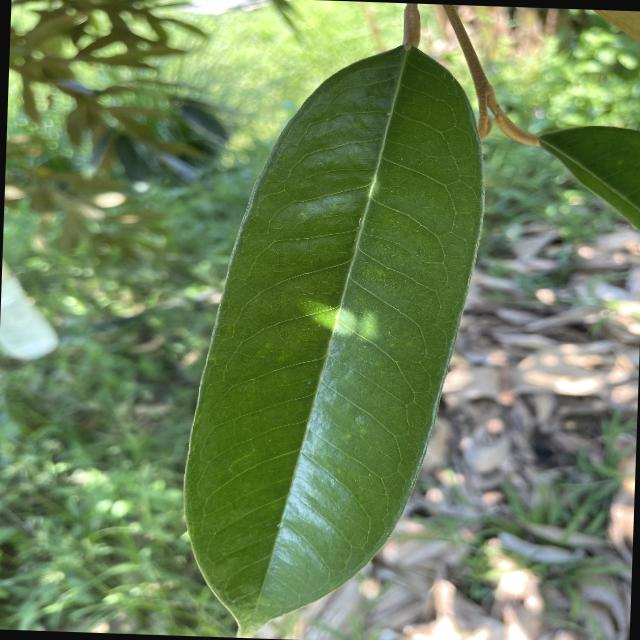No Disease: (171, 32, 498, 632)
